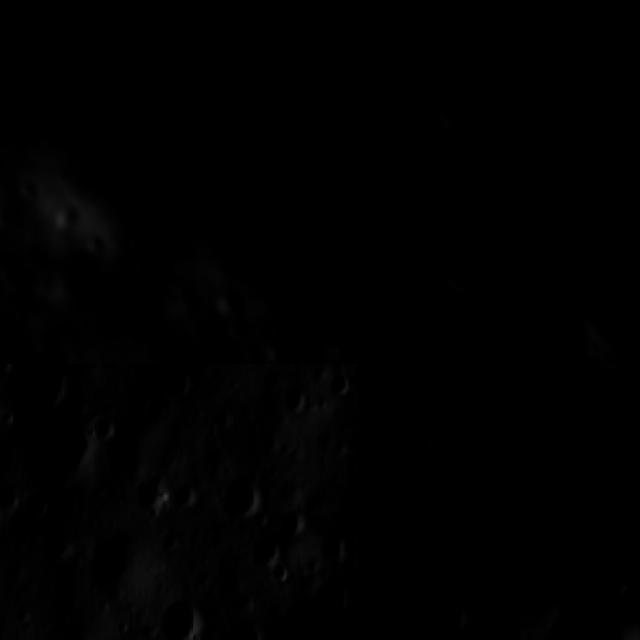crater: (543, 233, 640, 364), (411, 60, 504, 154), (425, 220, 511, 318), (358, 178, 431, 289), (514, 590, 640, 640), (358, 394, 423, 468), (358, 265, 405, 364), (358, 473, 423, 540), (404, 540, 472, 594), (434, 304, 493, 360), (515, 230, 563, 292), (13, 364, 79, 403), (591, 477, 640, 524), (428, 591, 478, 637), (202, 276, 248, 325), (385, 0, 439, 34), (160, 605, 211, 640), (314, 523, 358, 562), (244, 531, 286, 571), (230, 471, 264, 520), (272, 341, 344, 364), (307, 575, 343, 615), (139, 472, 179, 507), (161, 364, 190, 403), (327, 367, 358, 401), (193, 341, 235, 364), (282, 384, 310, 418), (222, 621, 270, 640), (92, 410, 115, 449), (24, 488, 48, 522), (614, 364, 640, 384)
